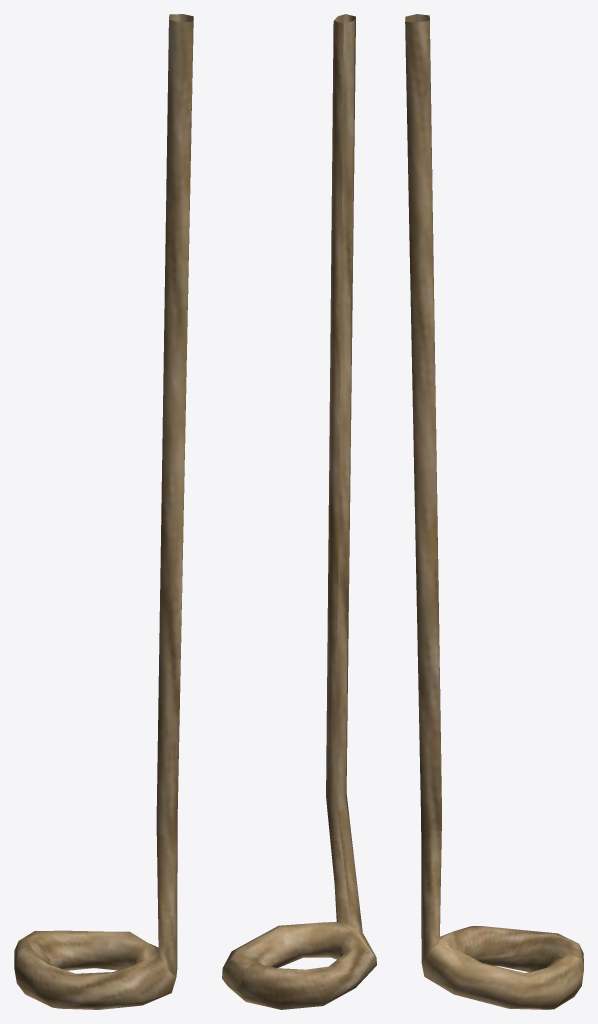
Rendered from SM_Dolls_Barbie_2_rope.fbx.
The picture shows the model from 3 angles, left to right: view 1: azimuth 90°, elevation 25°; view 2: azimuth 150°, elevation 25°; view 3: azimuth 270°, elevation 25°; orthographic projection. The views are drawn at different scales.
Visible parts, largest first — view 1: SM_Dolls_Barbie_2_rope; view 2: SM_Dolls_Barbie_2_rope; view 3: SM_Dolls_Barbie_2_rope.
Boxes of the visible parts, x1=… form: SM_Dolls_Barbie_2_rope: x1=14, y1=14, x2=193, y2=1009; SM_Dolls_Barbie_2_rope: x1=222, y1=14, x2=376, y2=1009; SM_Dolls_Barbie_2_rope: x1=405, y1=14, x2=583, y2=1009.
Bounding box in the file's own units: 2.69 × 3.37 × 20.21.
Materials: 1 (1 with a texture image).
